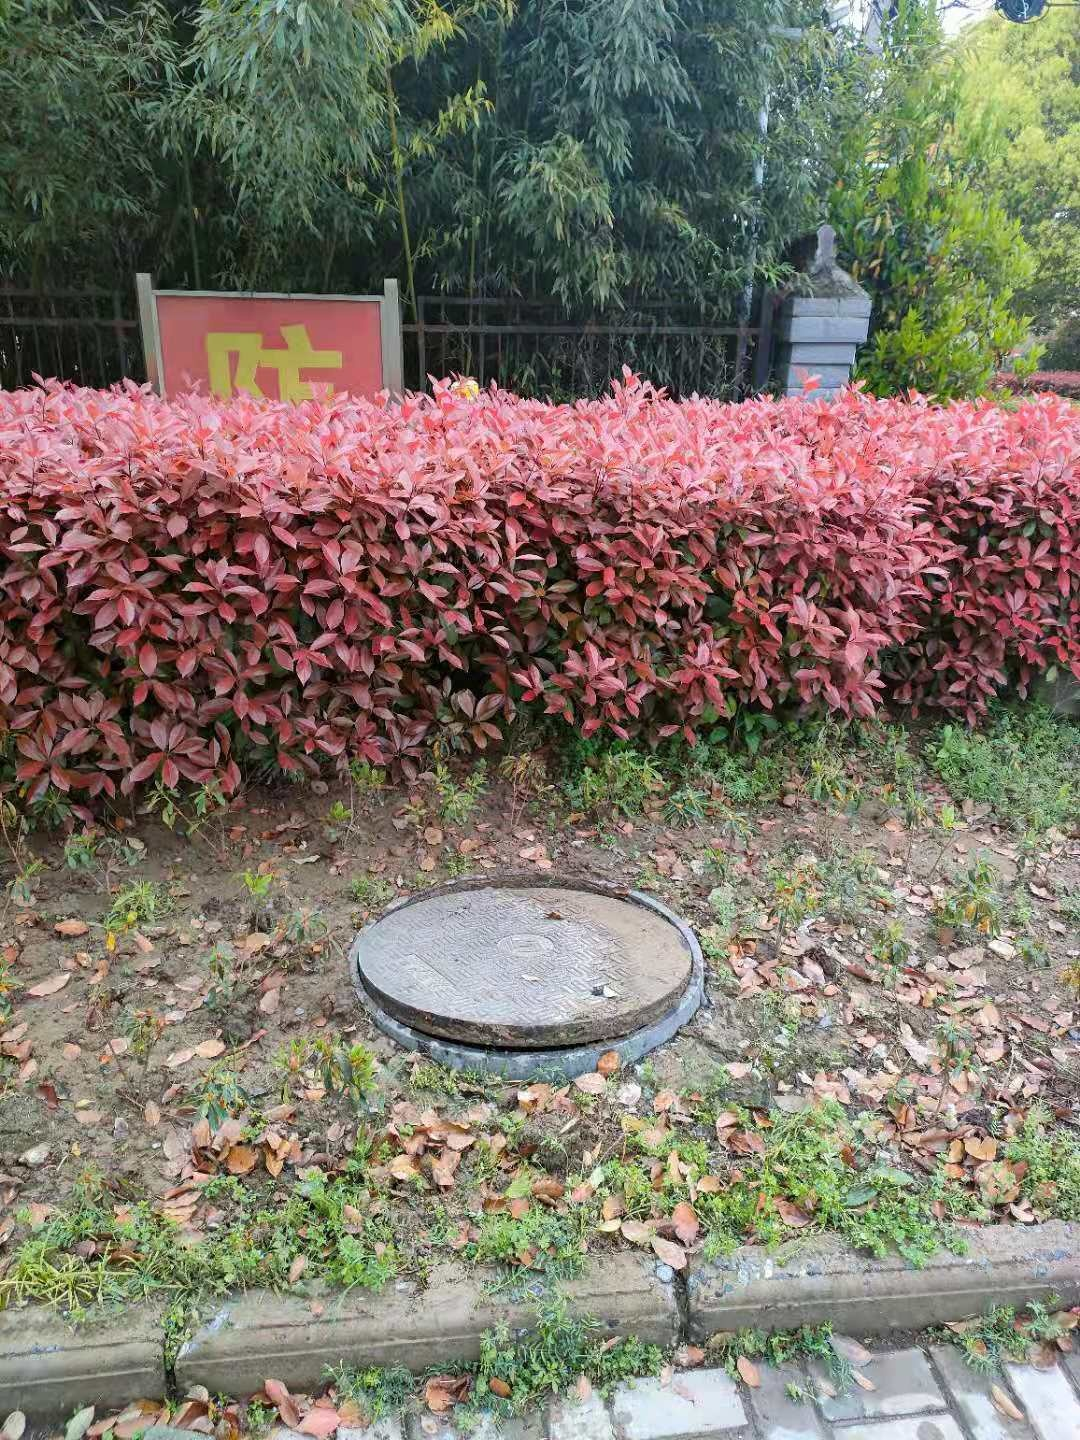well: (348, 876, 704, 1078)
